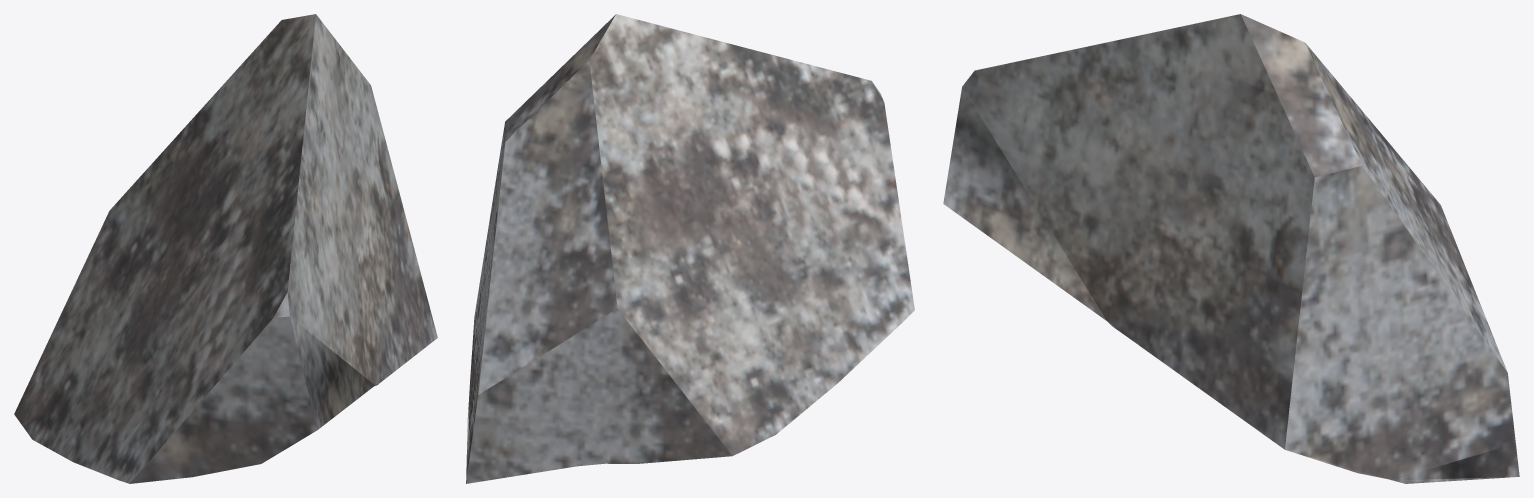
The model's file is Asteroid_Large_001_02_001_03_009.fbx.
3 renders of one model, left to right at view 1: azimuth 30°, elevation 25°; view 2: azimuth 150°, elevation 25°; view 3: azimuth 270°, elevation 25°, orthographic. The views are drawn at different scales.
Visible parts, largest first — view 1: Asteroid_Large_001_02_001_03_009; view 2: Asteroid_Large_001_02_001_03_009; view 3: Asteroid_Large_001_02_001_03_009.
Boxes of the visible parts, x1,y1,x2,y2 form: Asteroid_Large_001_02_001_03_009: (14, 14, 437, 483); Asteroid_Large_001_02_001_03_009: (466, 14, 914, 483); Asteroid_Large_001_02_001_03_009: (943, 14, 1519, 483).
Bounding box in the file's own units: 5.3 × 5.61 × 6.56.
